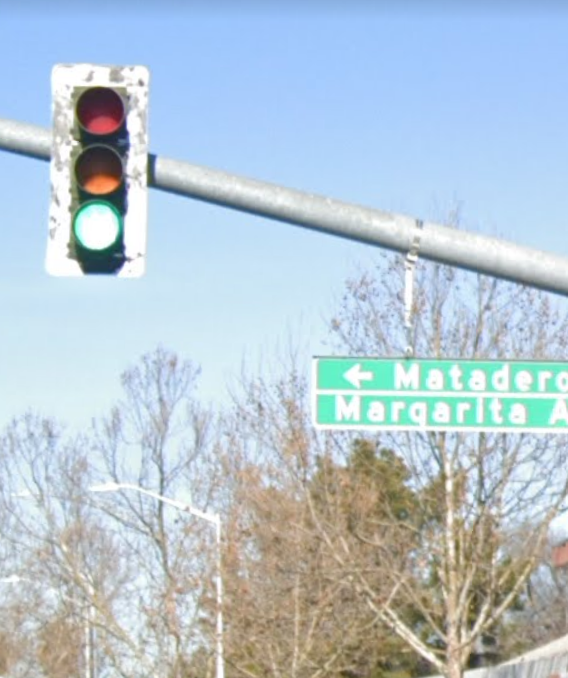green_light: (58, 69, 140, 272)
